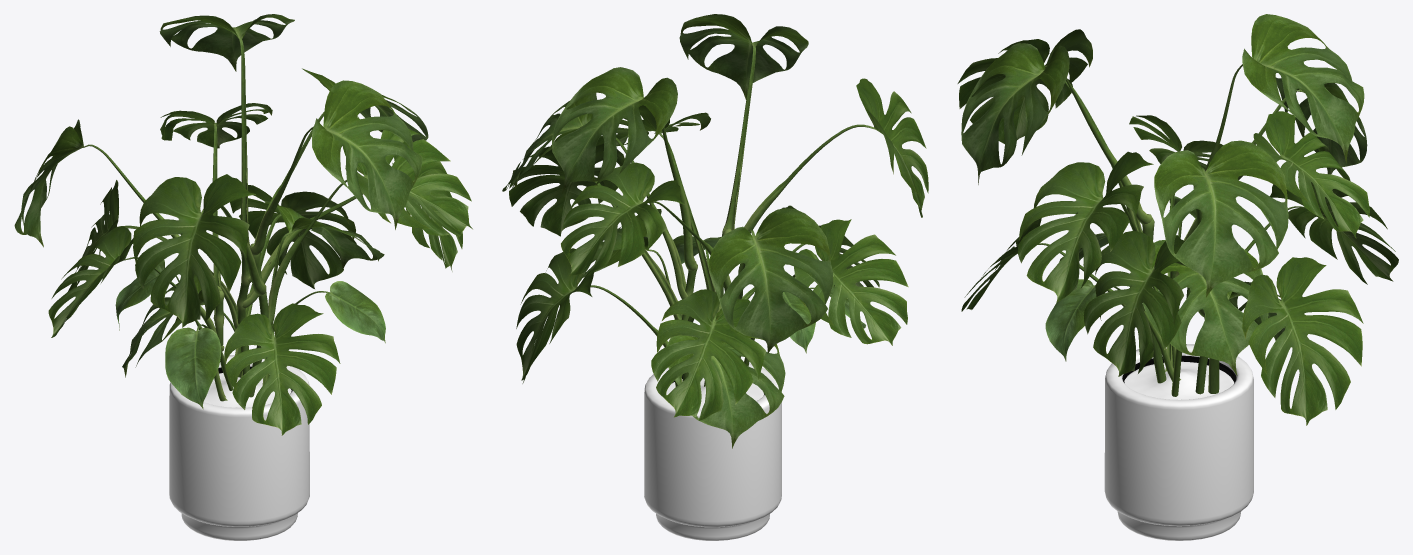
The model's file is Plant.glb.
3 renders of one model, left to right at view 1: azimuth 30°, elevation 25°; view 2: azimuth 150°, elevation 25°; view 3: azimuth 270°, elevation 25°, orthographic. The views are drawn at different scales.
Visible parts, largest first — view 1: Leaves; view 2: Leaves; view 3: Leaves.
Boxes of the visible parts, x1,y1,x2,y2 form: Leaves: (14, 14, 472, 540); Leaves: (502, 14, 928, 540); Leaves: (957, 14, 1398, 540).
Size of the model in its own units: 0.4398 by 0.4942 by 0.3948.
Materials: 4 (1 with a texture image).
